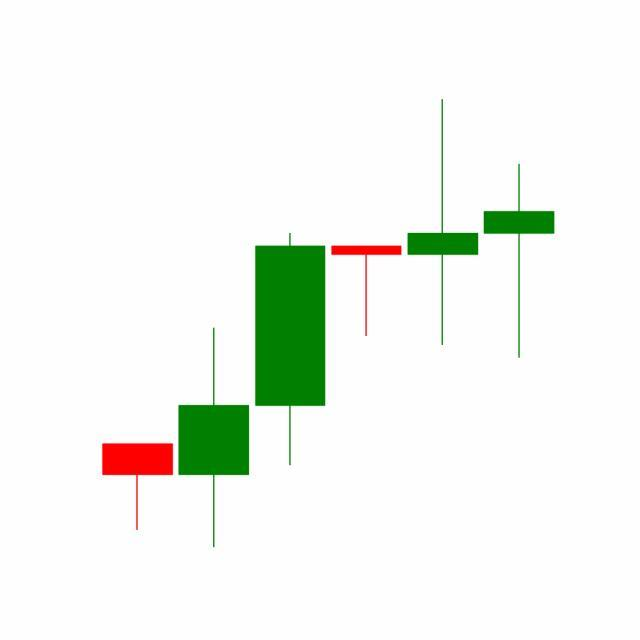Spinning Top: (404, 96, 482, 348)
